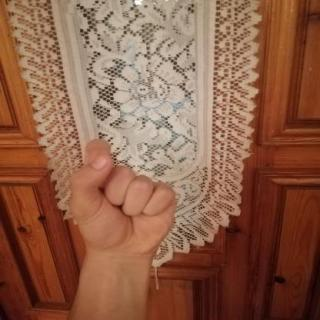FAA: (56, 132, 186, 264)
